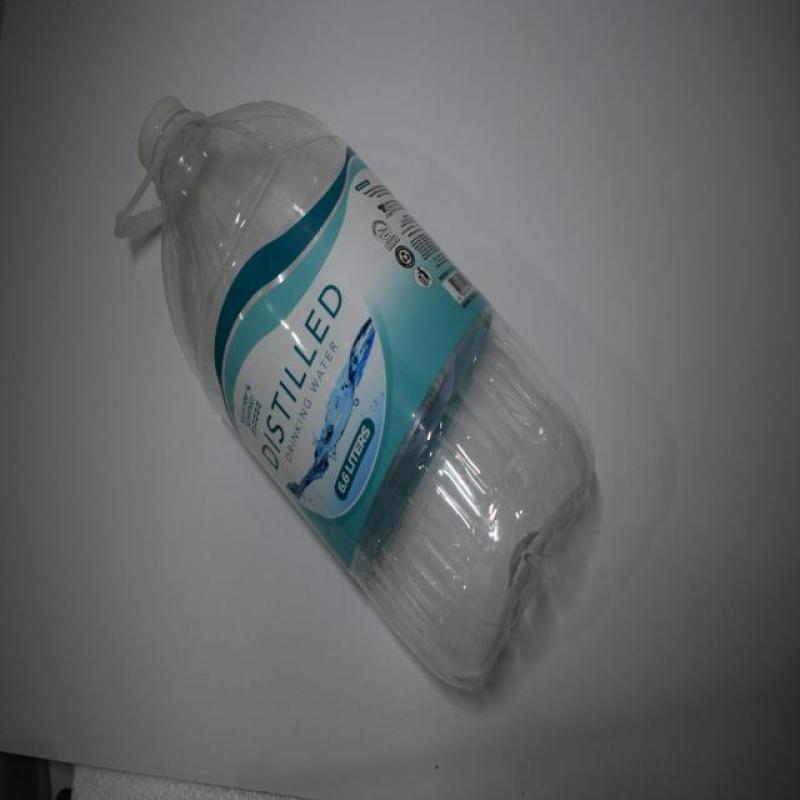botella: (106, 91, 602, 700)
